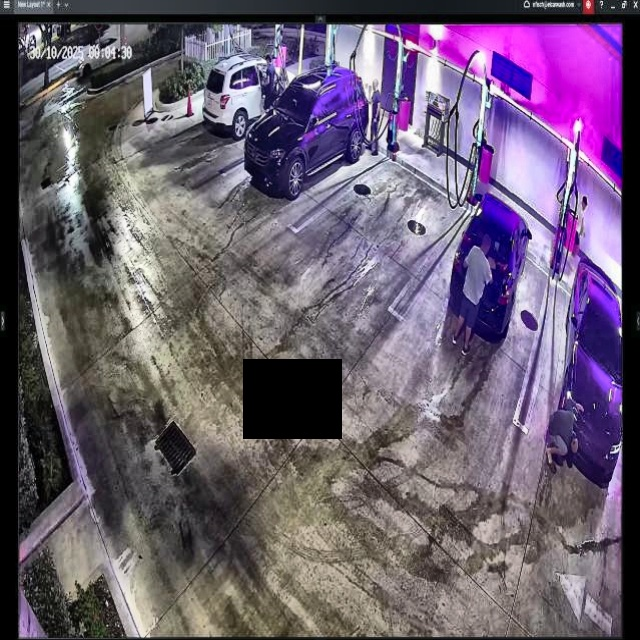Car: (247, 66, 367, 198), (447, 188, 532, 339)
